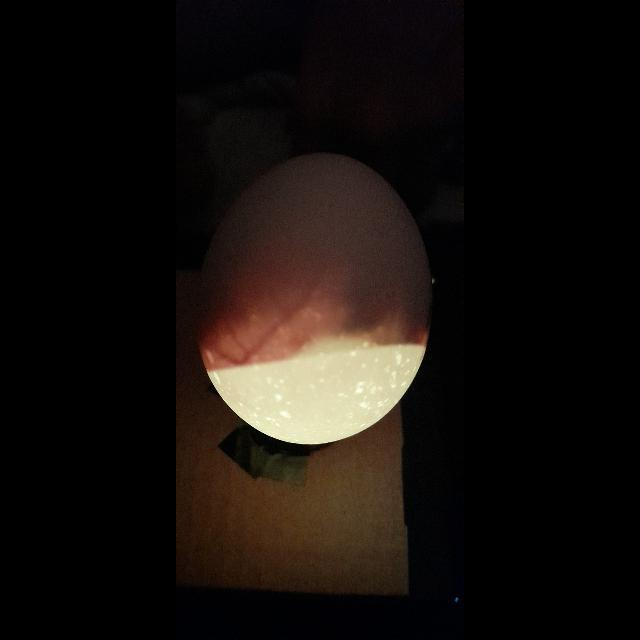Fertile: (194, 146, 438, 446)
